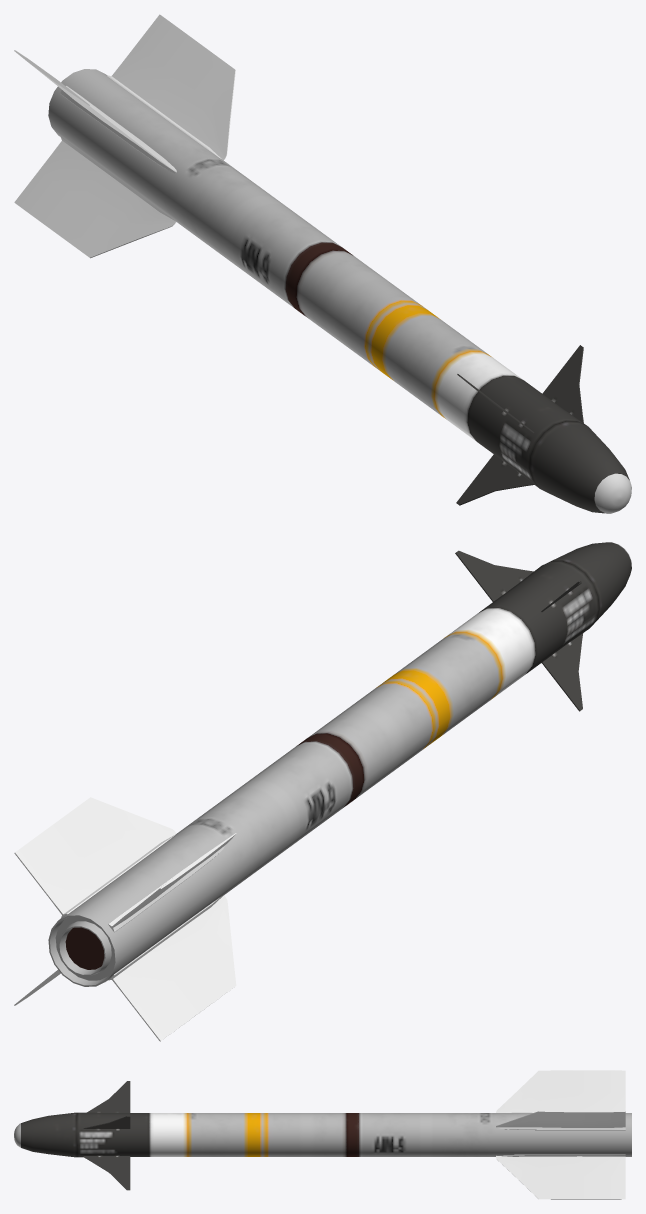
The model's file is Gun_RocketMissile.dae.
The picture shows the model from 3 angles, top to bottom: view 1: azimuth 30°, elevation 25°; view 2: azimuth 150°, elevation 25°; view 3: azimuth 270°, elevation 25°; orthographic projection. The views are drawn at different scales.
Visible parts, largest first — view 1: body; view 2: body; view 3: body.
Boxes of the visible parts, x1=… form: body: x1=14, y1=14, x2=631, y2=513; body: x1=14, y1=542, x2=631, y2=1041; body: x1=14, y1=1070, x2=631, y2=1199.
Bounding box in the file's own units: 31.85 × 31.85 × 200.
